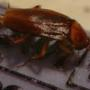cockroach: (4, 6, 89, 56)
